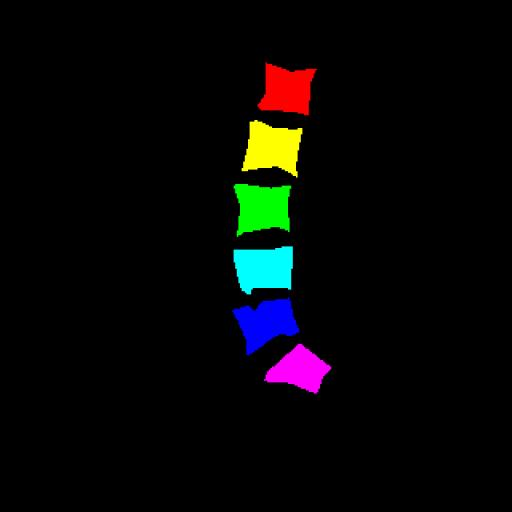L1: (258, 63, 316, 114)
L2: (242, 121, 302, 176)
L3: (236, 184, 291, 236)
L4: (234, 246, 292, 294)
L5: (233, 299, 299, 354)
S1: (266, 344, 331, 394)
